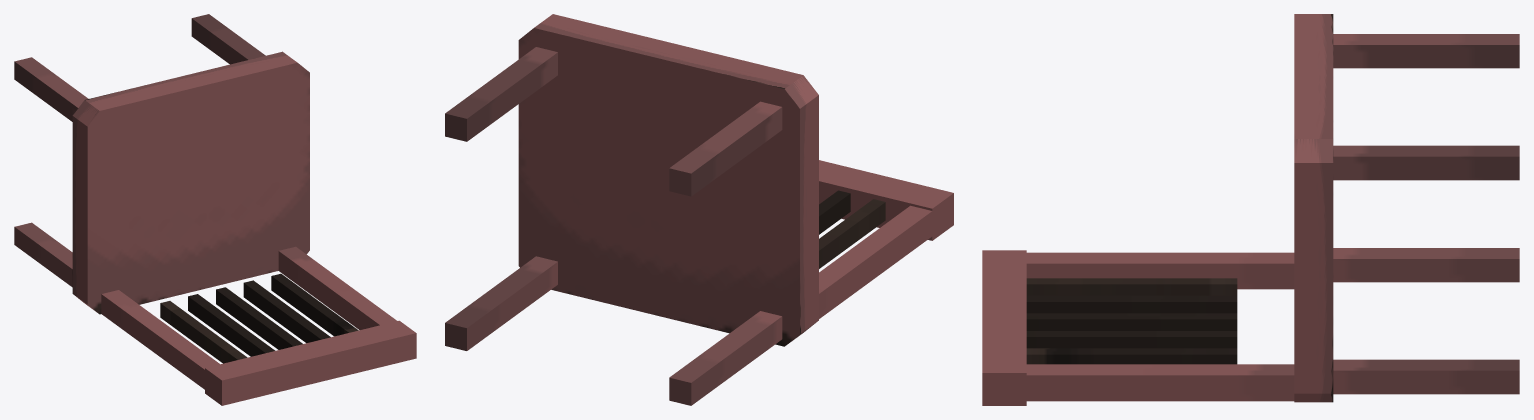
Rendered from pz_chair_seating_indoor_03_fancy_wooden.obj.
3 renders of one model, left to right at view 1: azimuth 30°, elevation 25°; view 2: azimuth 150°, elevation 25°; view 3: azimuth 270°, elevation 25°, orthographic. The views are drawn at different scales.
Parts seen in each view (by area): view 1: root; view 2: root; view 3: root.
Boxes of the visible parts, x1,y1,x2,y2 form: root: (14,14,416,405); root: (445,14,953,405); root: (982,14,1519,405).
Size of the model in its own units: 0.64 by 0.57 by 1.03.
1 material, 1 textured.
